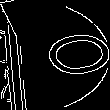O_W: (9, 26, 101, 84)
